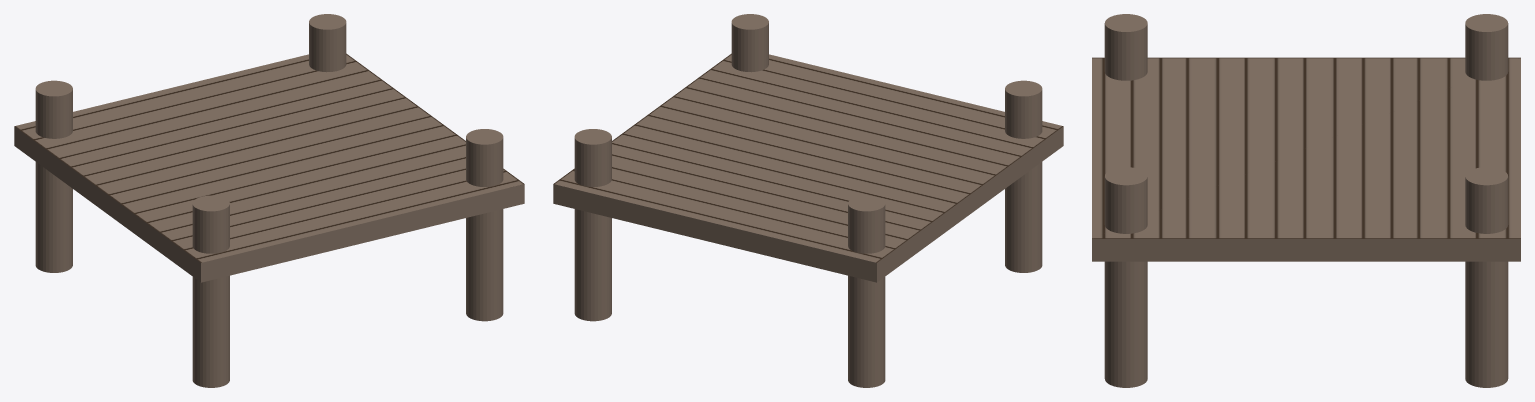
File: Wooddeck.fbx
3 views of the same model, side by side, from view 1: azimuth 30°, elevation 25°; view 2: azimuth 150°, elevation 25°; view 3: azimuth 270°, elevation 25° (orthographic). The views are drawn at different scales.
Parts seen in each view (by area): view 1: 큐브, 실린더; view 2: 큐브, 실린더; view 3: 큐브, 실린더.
Boxes of the visible parts, <box> form: 큐브: <box>14,53,524,282</box>; 실린더: <box>35,14,503,387</box>; 큐브: <box>553,53,1063,282</box>; 실린더: <box>574,14,1042,387</box>; 큐브: <box>1092,57,1520,261</box>; 실린더: <box>1104,14,1508,387</box>.
Bounding box in the file's own units: 240 × 125 × 240.
Materials: 2 (2 with a texture image).
